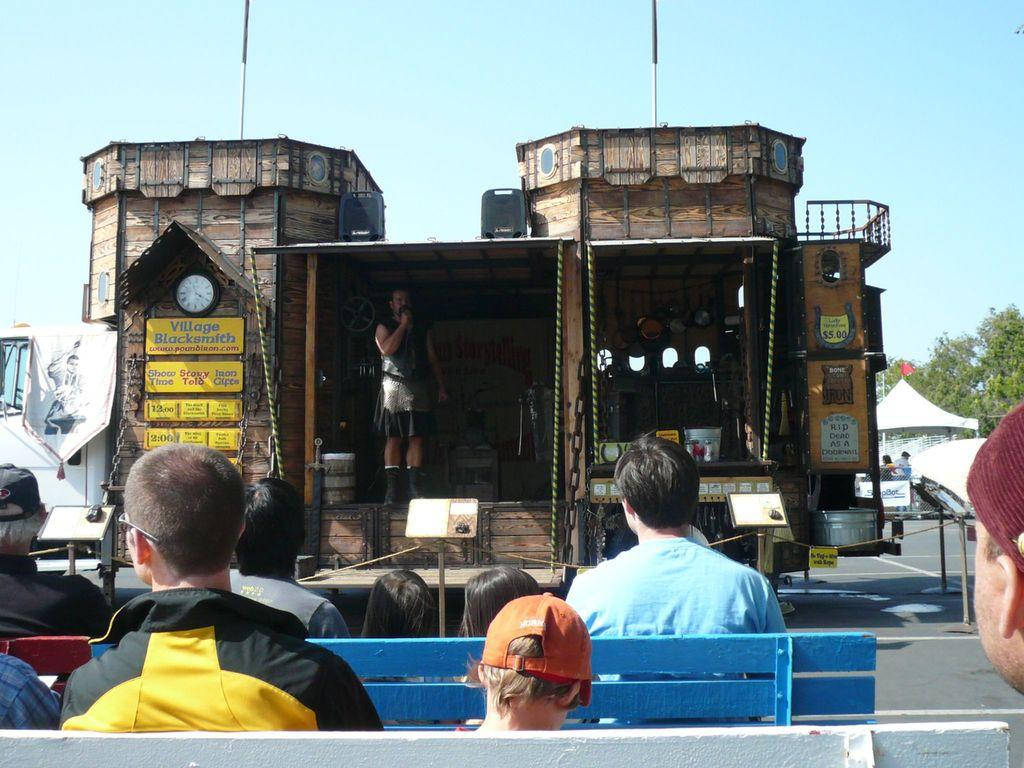Hat: (476, 585, 586, 707), (0, 460, 43, 520)
